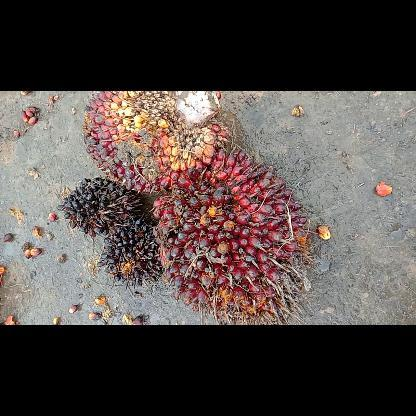TBS abnormal: (54, 174, 144, 238), (94, 225, 164, 285)
TBS masak: (152, 144, 318, 324), (80, 91, 234, 197)
